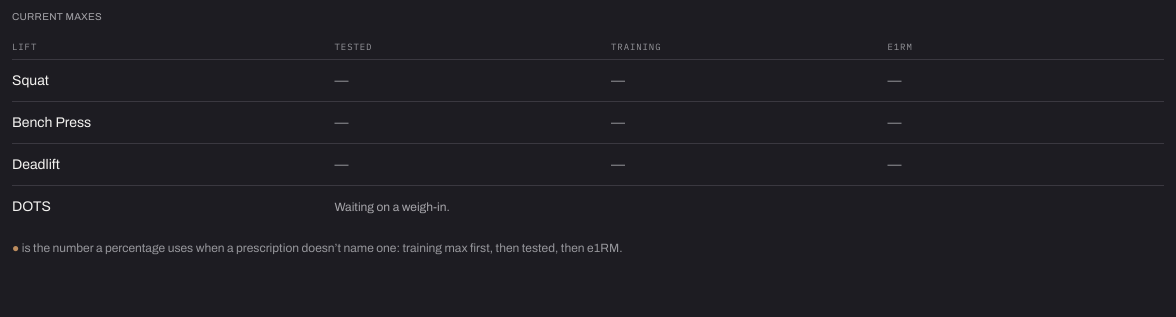
Scenario: setting a max inline › saves what the coach typed against the right lift and kind
Click the button named "Set training max for Squat" at [618, 80], box [607,66,629,95]
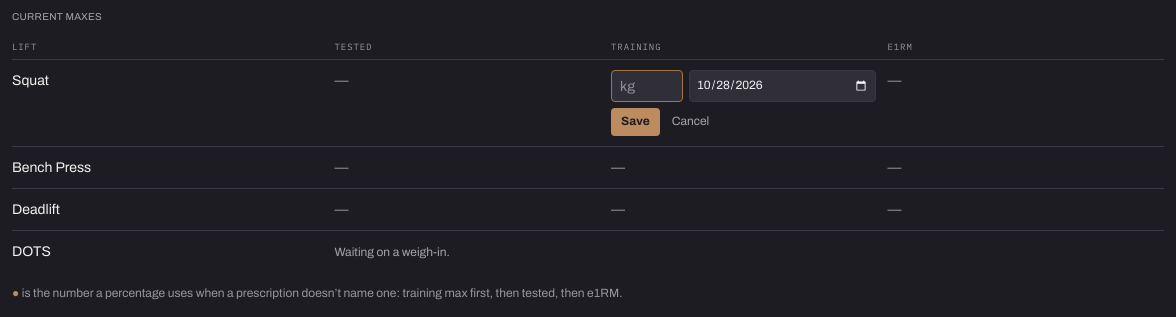
Type "182,5" into the field named "training max for Squat, kg" at [647, 86], box [611,70,683,102]
Then press Enter
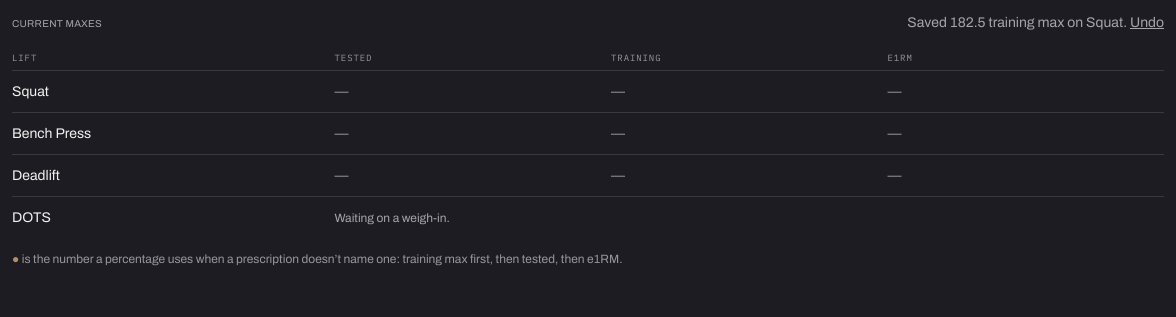
Result: the message shows "Saved 182.5 training max on Squat" at [907,12,1164,33]
